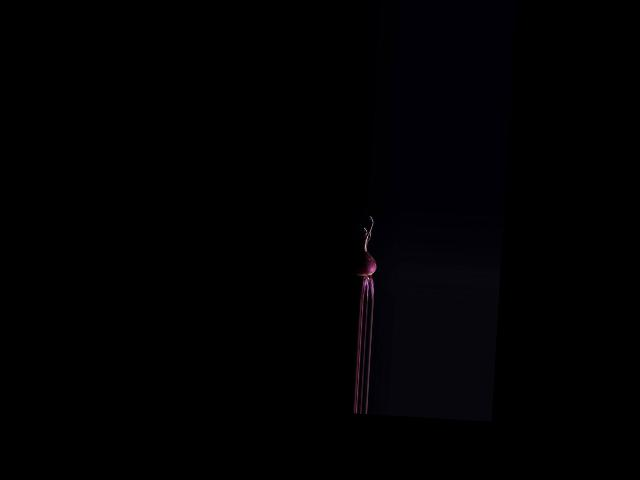beet: (351, 215, 380, 301)
